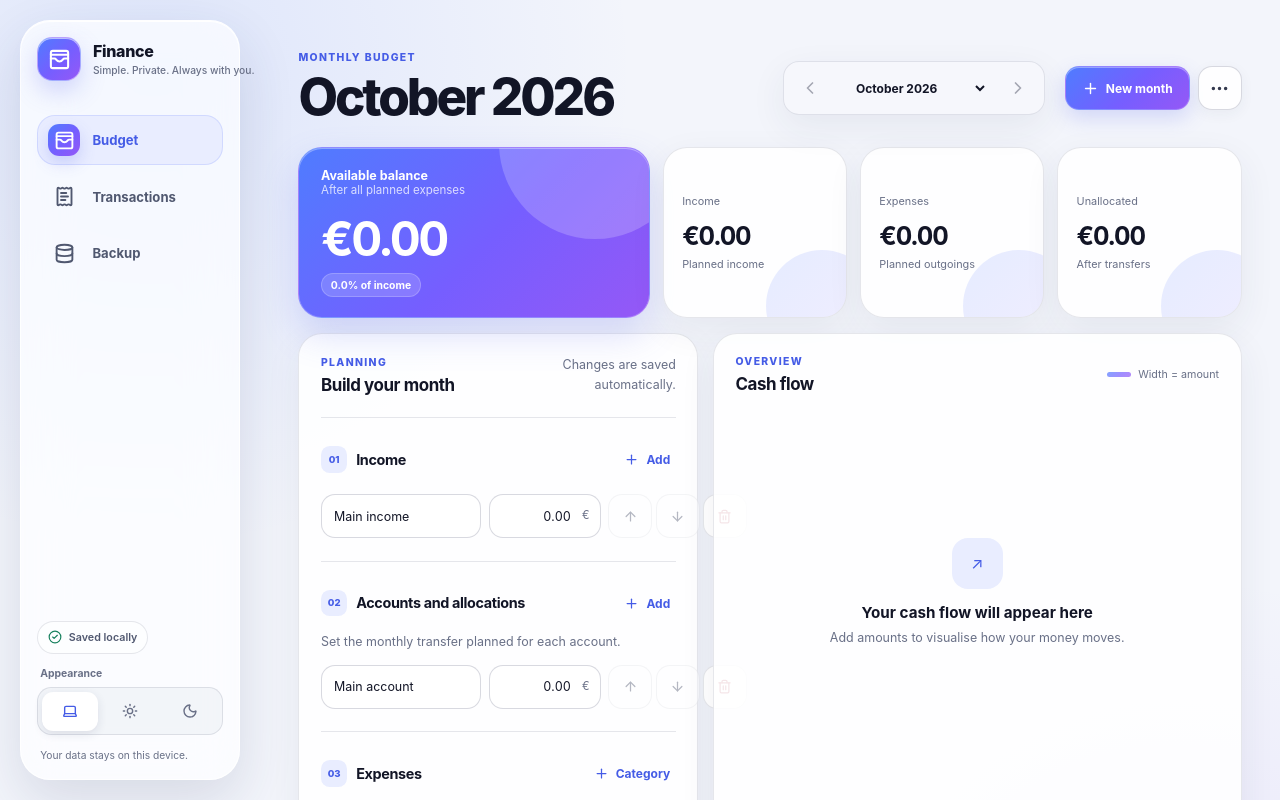
Test: budget application › opens the backup screen from the main navigation
Expected: the heading "Build your month" is shown, top-left (321, 375), bottom-right (455, 395)
Click the link "Backup".
click(97, 253)  # box top-left (54, 243), bottom-right (140, 264)
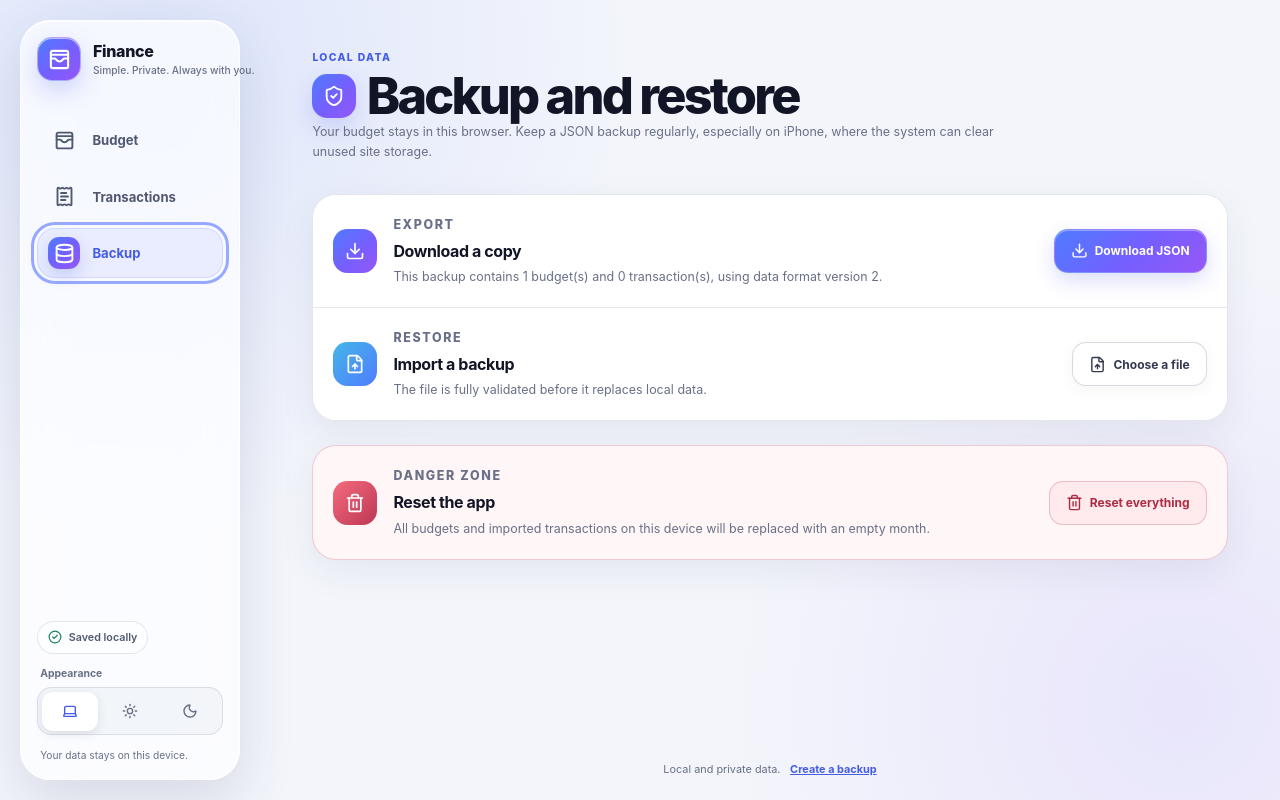
Expected: the heading "Backup and restore" is shown, top-left (367, 70), bottom-right (799, 122)
Expected: the button "Download JSON" is shown, top-left (1054, 229), bottom-right (1207, 273)
